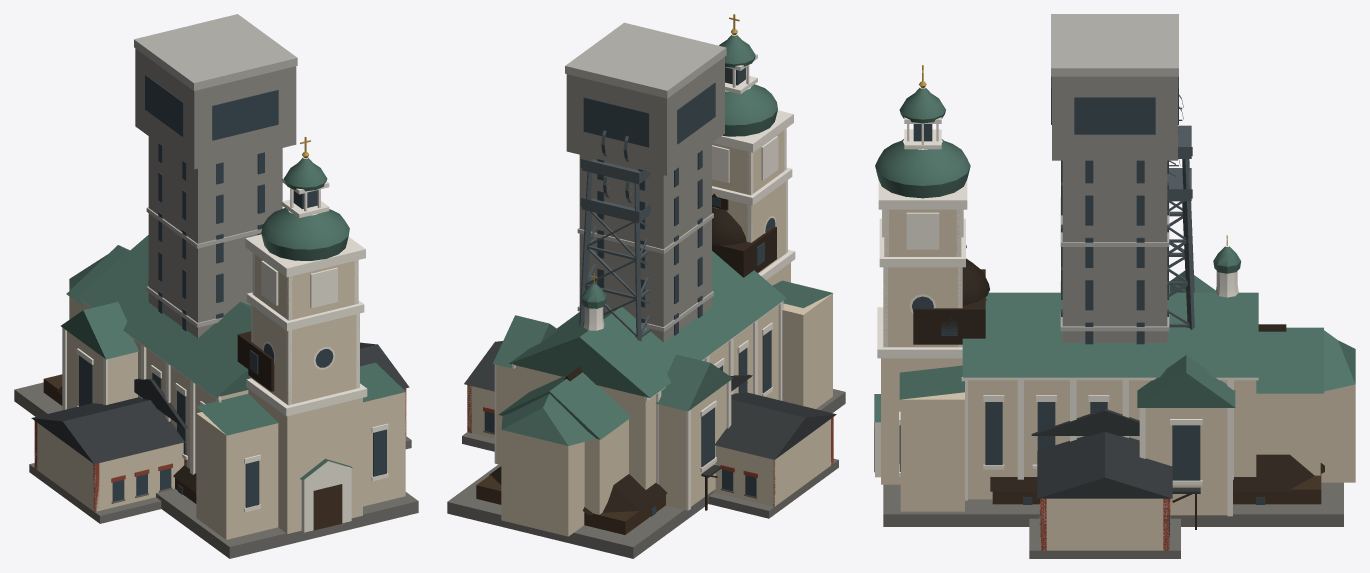
File: brzeszcze_landmarks.glb
3 views of the same model, side by side, from view 1: azimuth 30°, elevation 25°; view 2: azimuth 150°, elevation 25°; view 3: azimuth 270°, elevation 25° (orthographic). The views are drawn at different scales.
Visible parts, largest first — view 1: KosciolUrbana, AndrzejV, DworzecBrzeszcze, KosciolMarcina; view 2: KosciolUrbana, AndrzejV, DworzecBrzeszcze, KosciolMarcina, AndrzejII, AndrzejI; view 3: KosciolUrbana, AndrzejV, DworzecBrzeszcze, KosciolMarcina, AndrzejII, AndrzejI.
Part boxes in pixels (x1,y1,x2,y2): KosciolUrbana: (14,136,418,558); AndrzejV: (134,14,297,337); DworzecBrzeszcze: (29,342,411,523); KosciolMarcina: (43,331,274,503); KosciolUrbana: (447,14,845,558); AndrzejV: (565,22,726,342); DworzecBrzeszcze: (462,341,838,518); KosciolMarcina: (476,193,776,534); AndrzejII: (579,130,650,341); AndrzejI: (580,163,650,333); KosciolUrbana: (874,65,1355,526); AndrzejV: (1051,14,1178,344); DworzecBrzeszcze: (1029,409,1200,558); KosciolMarcina: (913,245,1324,504); AndrzejII: (1167,94,1194,329); AndrzejI: (1167,159,1192,328).
Bounding box in the file's own units: 33.4 × 41.3 × 41.25.
